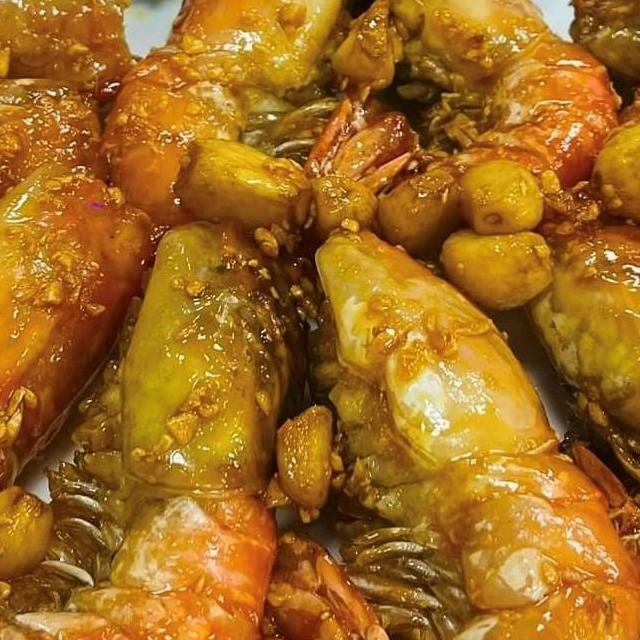tom: (243, 210, 640, 640), (0, 204, 320, 640), (92, 0, 429, 246), (315, 0, 629, 253), (0, 153, 166, 577), (512, 204, 640, 640), (0, 69, 114, 381), (0, 0, 142, 109)
